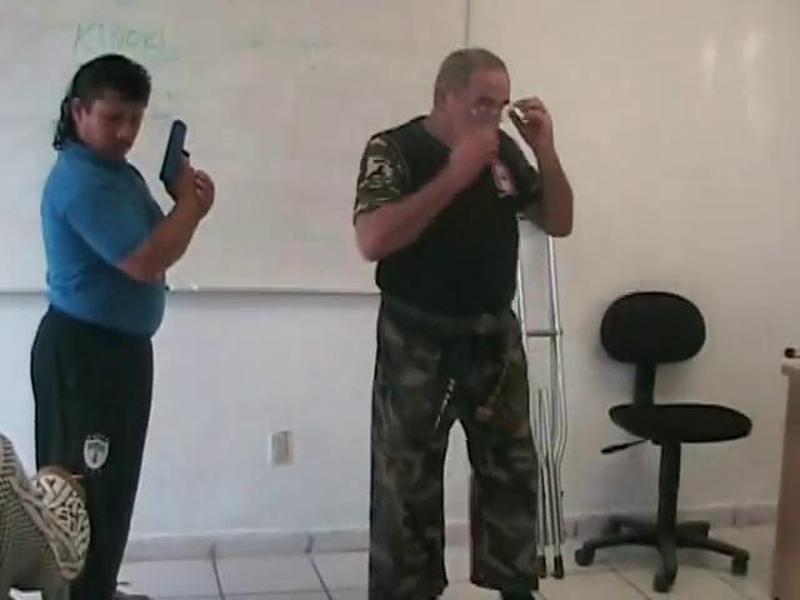Pistola: (158, 104, 217, 211)
